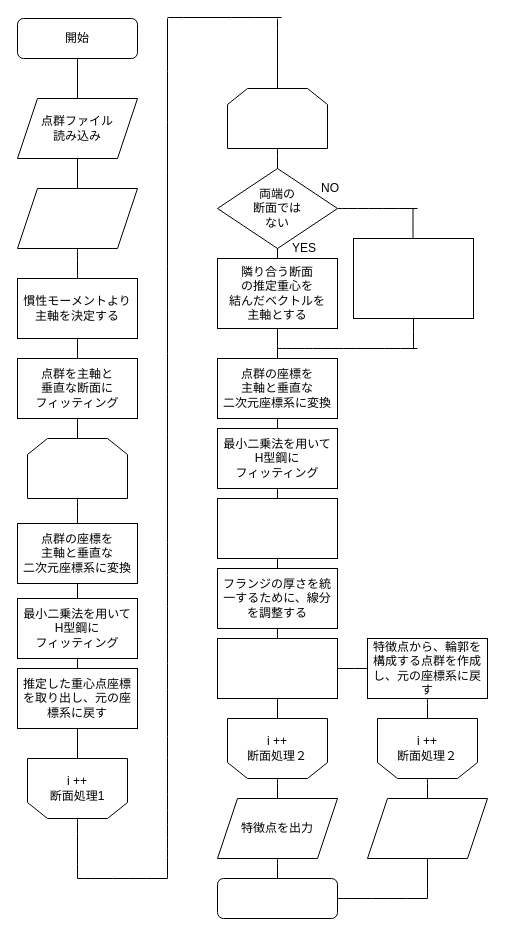
Image size: 505x936. Some labels were removed from this diagram. Here are the shapes that lost their labels. From the top down, the centre of each, then its label:
At point 277,118: "断面処理２ i < N".
At point 77,218: "分割数Nの入力".
At point 413,278: "隣りの断面の推定重心と自身の断面推定重心を結んだベクトルを主軸とする".
At point 77,468: "断面処理１ i < N".
At point 277,528: "Ｈ形鋼の各線分要素に点群を分け、最小二乗法より各線分を求める".
At point 277,668: "線分の交点から 特徴点をとり、元の座標系に戻す".
At point 427,828: "輪郭点群を出力 （可視化）".
At point 277,898: "終了".
